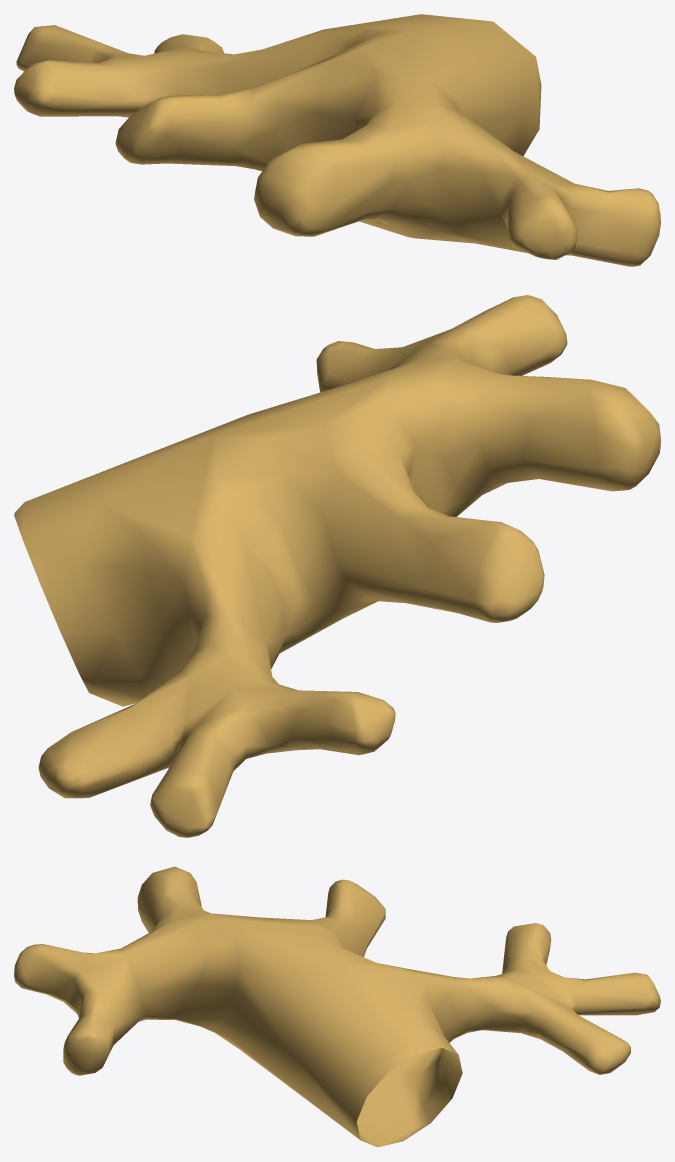
3 views of the same model, one above another, from view 1: azimuth 30°, elevation 25°; view 2: azimuth 150°, elevation 25°; view 3: azimuth 270°, elevation 25° (orthographic). The views are drawn at different scales.
Visible parts, largest first — view 1: 右侧肾盂; view 2: 右侧肾盂; view 3: 右侧肾盂.
Boxes of the visible parts, x1,y1,x2,y2 form: 右侧肾盂: (14, 14, 660, 266); 右侧肾盂: (14, 295, 660, 837); 右侧肾盂: (14, 866, 660, 1147).
Bounding box in the file's own units: 0.0637 × 0.0315 × 0.1098.
